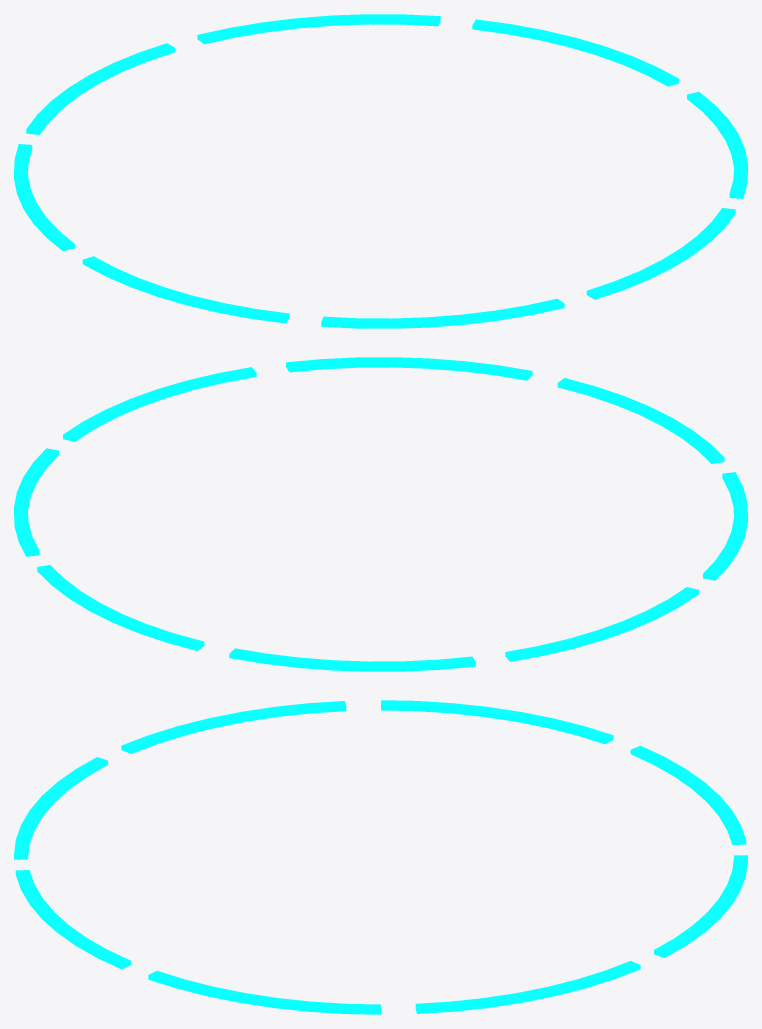
File: NT_SpawnRing_Cyan.fbx
3 renders of one model, top to bottom at view 1: azimuth 30°, elevation 25°; view 2: azimuth 150°, elevation 25°; view 3: azimuth 270°, elevation 25°, orthographic.
Visible parts, largest first — view 1: NT_SpawnRing_Cyan__EffectMesh; view 2: NT_SpawnRing_Cyan__EffectMesh; view 3: NT_SpawnRing_Cyan__EffectMesh.
Part boxes in pixels (bbox=[...]): NT_SpawnRing_Cyan__EffectMesh: bbox=[14, 14, 747, 328]; NT_SpawnRing_Cyan__EffectMesh: bbox=[14, 357, 747, 671]; NT_SpawnRing_Cyan__EffectMesh: bbox=[14, 700, 747, 1014].
Bounding box in the file's own units: 2.38 × 0.016 × 2.38.
